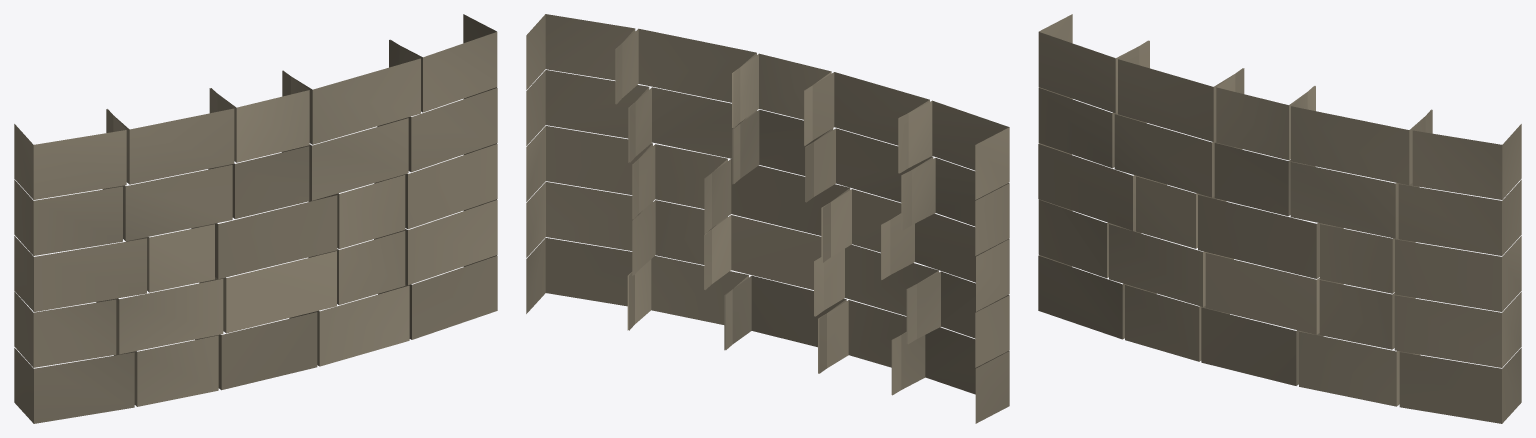
File: dome_footing_mid.glb
3 renders of one model, left to right at view 1: azimuth 30°, elevation 25°; view 2: azimuth 150°, elevation 25°; view 3: azimuth 330°, elevation 25°, orthographic.
Parts seen in each view (by area): view 1: dome_footing_mid; view 2: dome_footing_mid; view 3: dome_footing_mid.
Boxes of the visible parts, left/top/right/bottom form: dome_footing_mid: left=14, top=14, right=497, bottom=423; dome_footing_mid: left=526, top=14, right=1009, bottom=423; dome_footing_mid: left=1038, top=14, right=1521, bottom=423.
Bounding box in the file's own units: 20.82 × 11.97 × 3.1.
